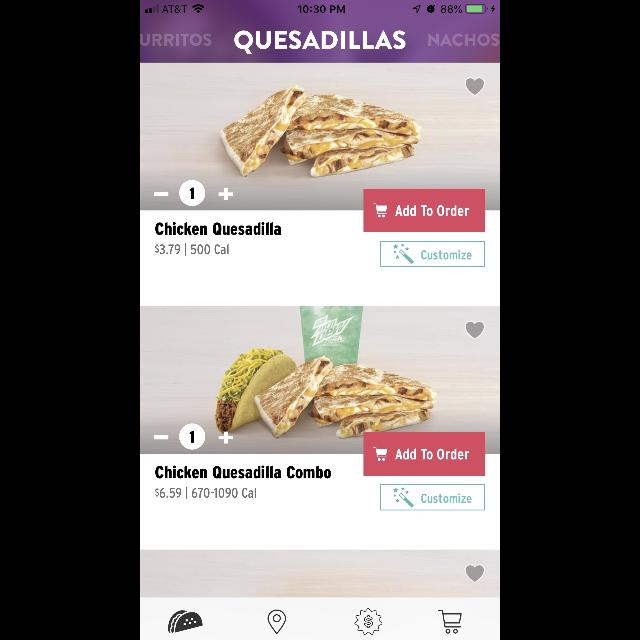icon: (354, 608, 382, 634), (438, 610, 462, 634), (268, 610, 286, 634), (465, 320, 485, 340), (465, 564, 485, 582), (465, 78, 485, 96)
image: (140, 306, 500, 454), (140, 63, 500, 211), (140, 550, 500, 596), (168, 610, 204, 634)
text: (234, 31, 406, 55), (156, 466, 330, 478), (156, 222, 280, 235), (156, 486, 256, 499), (155, 242, 229, 255), (140, 34, 212, 46), (428, 34, 499, 46)
textbutton: (363, 432, 485, 476), (363, 190, 485, 232), (380, 485, 486, 511), (380, 241, 486, 267)
uppertaskbar: (140, 0, 500, 14)
